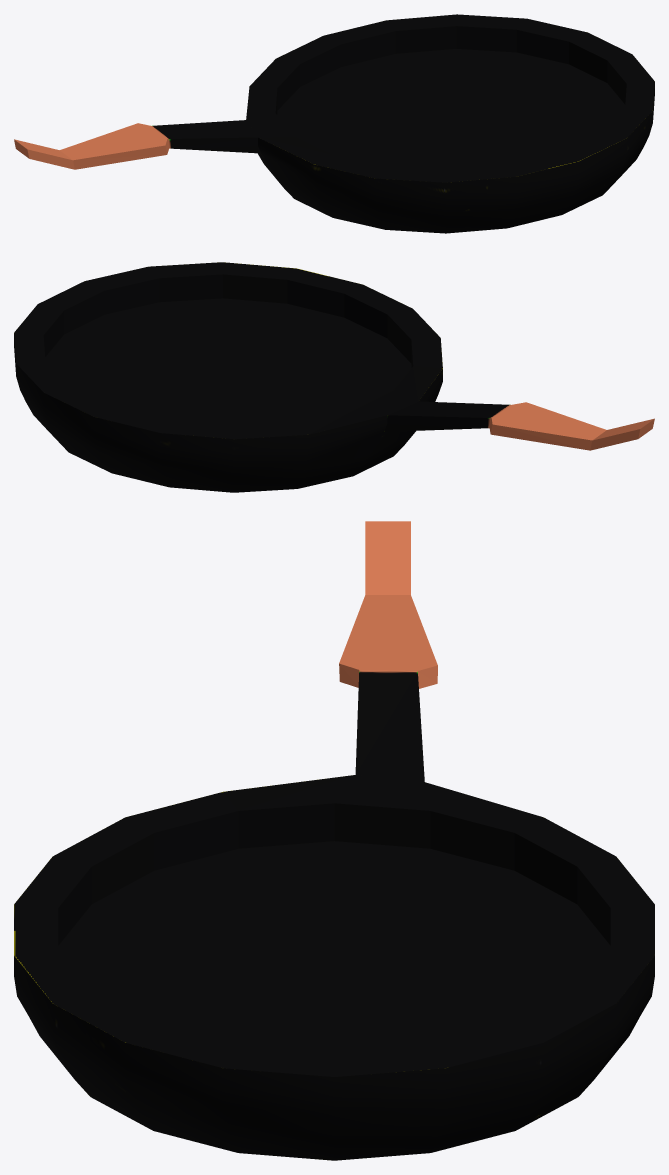
The model's file is Sarten.fbx.
3 views of the same model, one above another, from view 1: azimuth 30°, elevation 25°; view 2: azimuth 150°, elevation 25°; view 3: azimuth 270°, elevation 25° (orthographic). The views are drawn at different scales.
Parts seen in each view (by area): view 1: Sarten(Mapeada)(texturizada); view 2: Sarten(Mapeada)(texturizada); view 3: Sarten(Mapeada)(texturizada).
Part boxes in pixels (x1,y1,x2,y2): Sarten(Mapeada)(texturizada): (14,14,654,233); Sarten(Mapeada)(texturizada): (14,262,654,492); Sarten(Mapeada)(texturizada): (14,521,654,1160).
Bounding box in the file's own units: 201 × 33.99 × 112.
